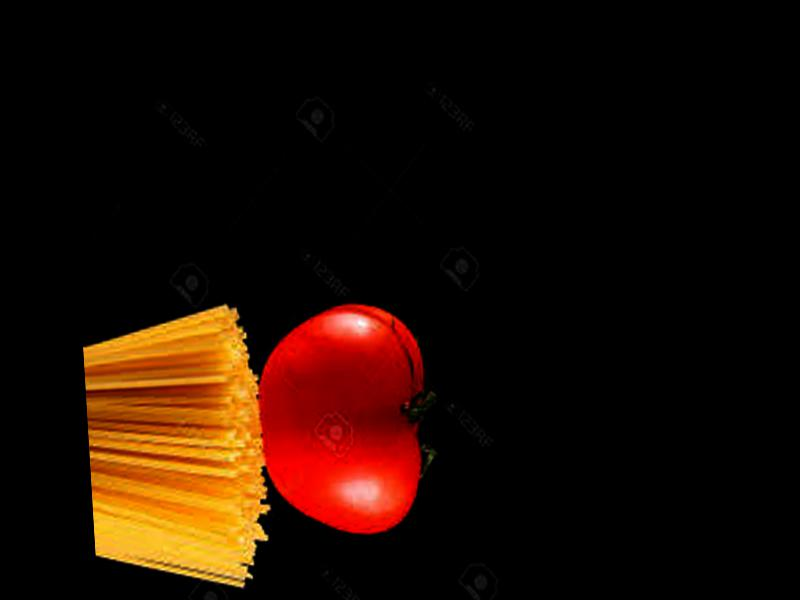Tomato: (253, 303, 434, 539)
